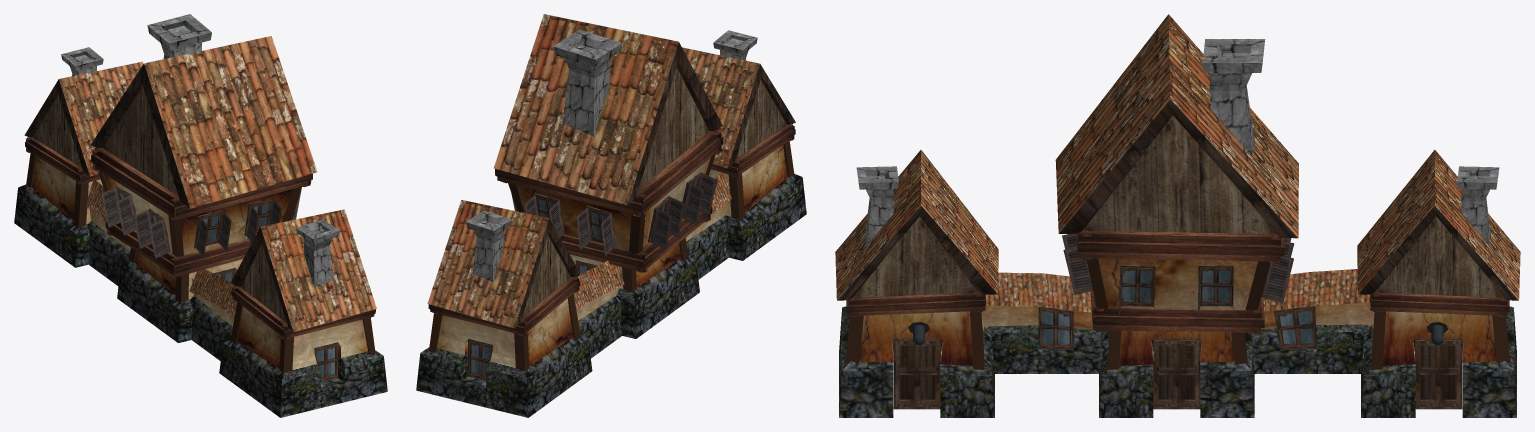
File: HutManison.fbx
The picture shows the model from 3 angles, left to right: view 1: azimuth 30°, elevation 25°; view 2: azimuth 150°, elevation 25°; view 3: azimuth 270°, elevation 25°; orthographic projection. The views are drawn at different scales.
Visible parts, largest first — view 1: MainBuillding; view 2: MainBuillding; view 3: MainBuillding.
Boxes of the visible parts, left/top/right/bottom form: MainBuillding: left=14, top=14, right=387, bottom=417; MainBuillding: left=416, top=14, right=806, bottom=417; MainBuillding: left=835, top=14, right=1520, bottom=417.
Bounding box in the file's own units: 7227 × 2456 × 3915.
